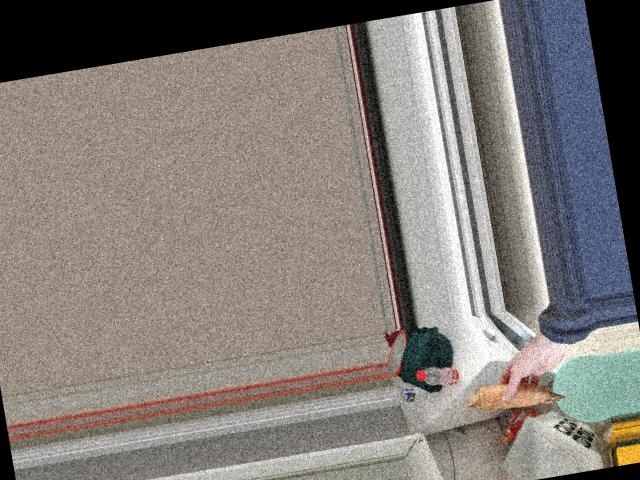sweet_potato: (461, 371, 559, 413)
